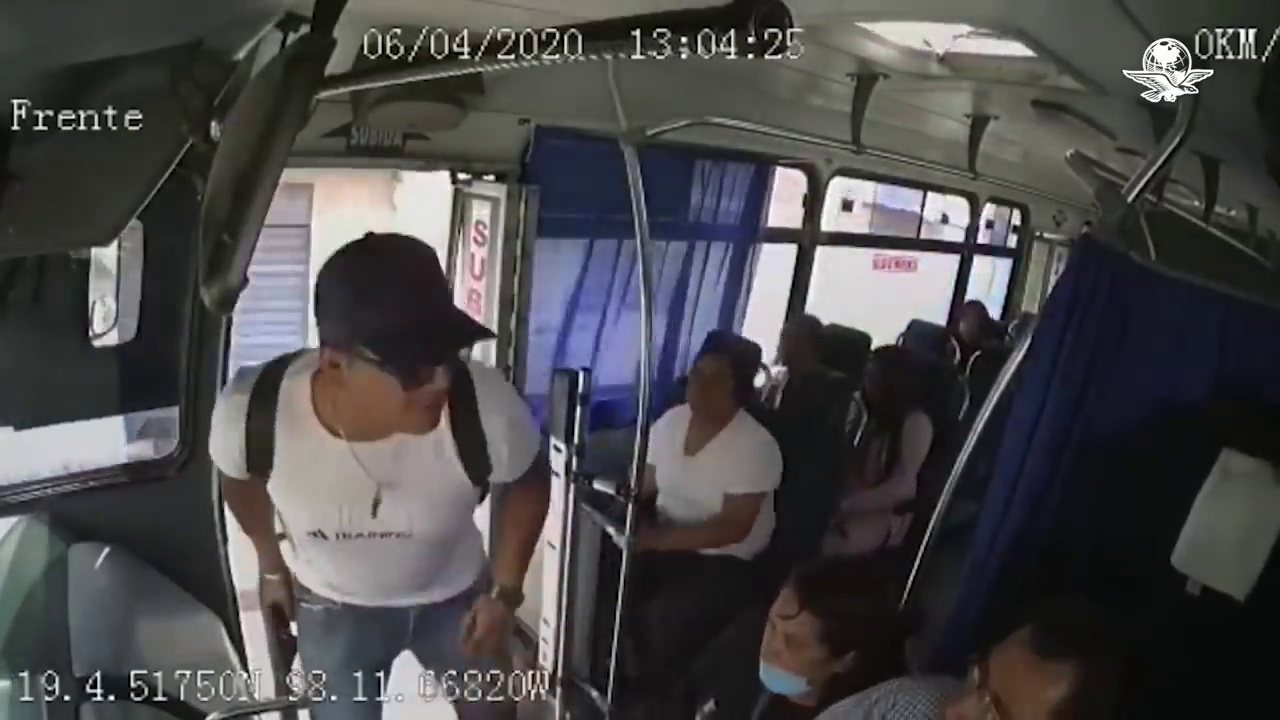pistol: (265, 595, 302, 696)
